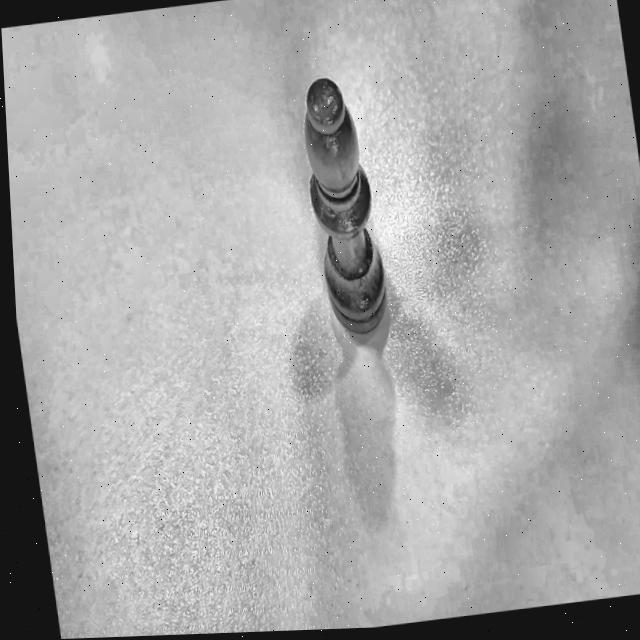black-bishop: (286, 64, 398, 346)
